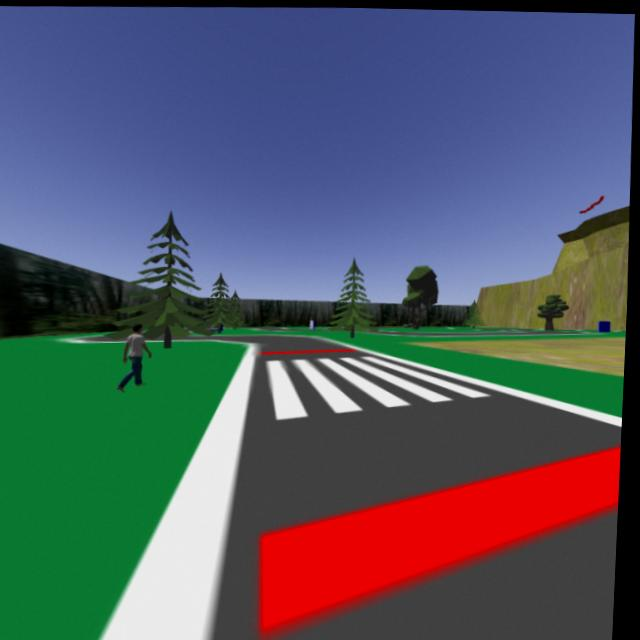pedestrian: (111, 320, 157, 394)
